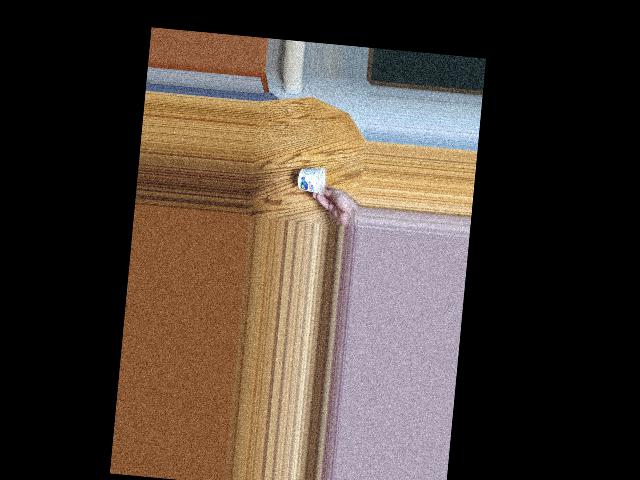cotage: (296, 163, 332, 200)
